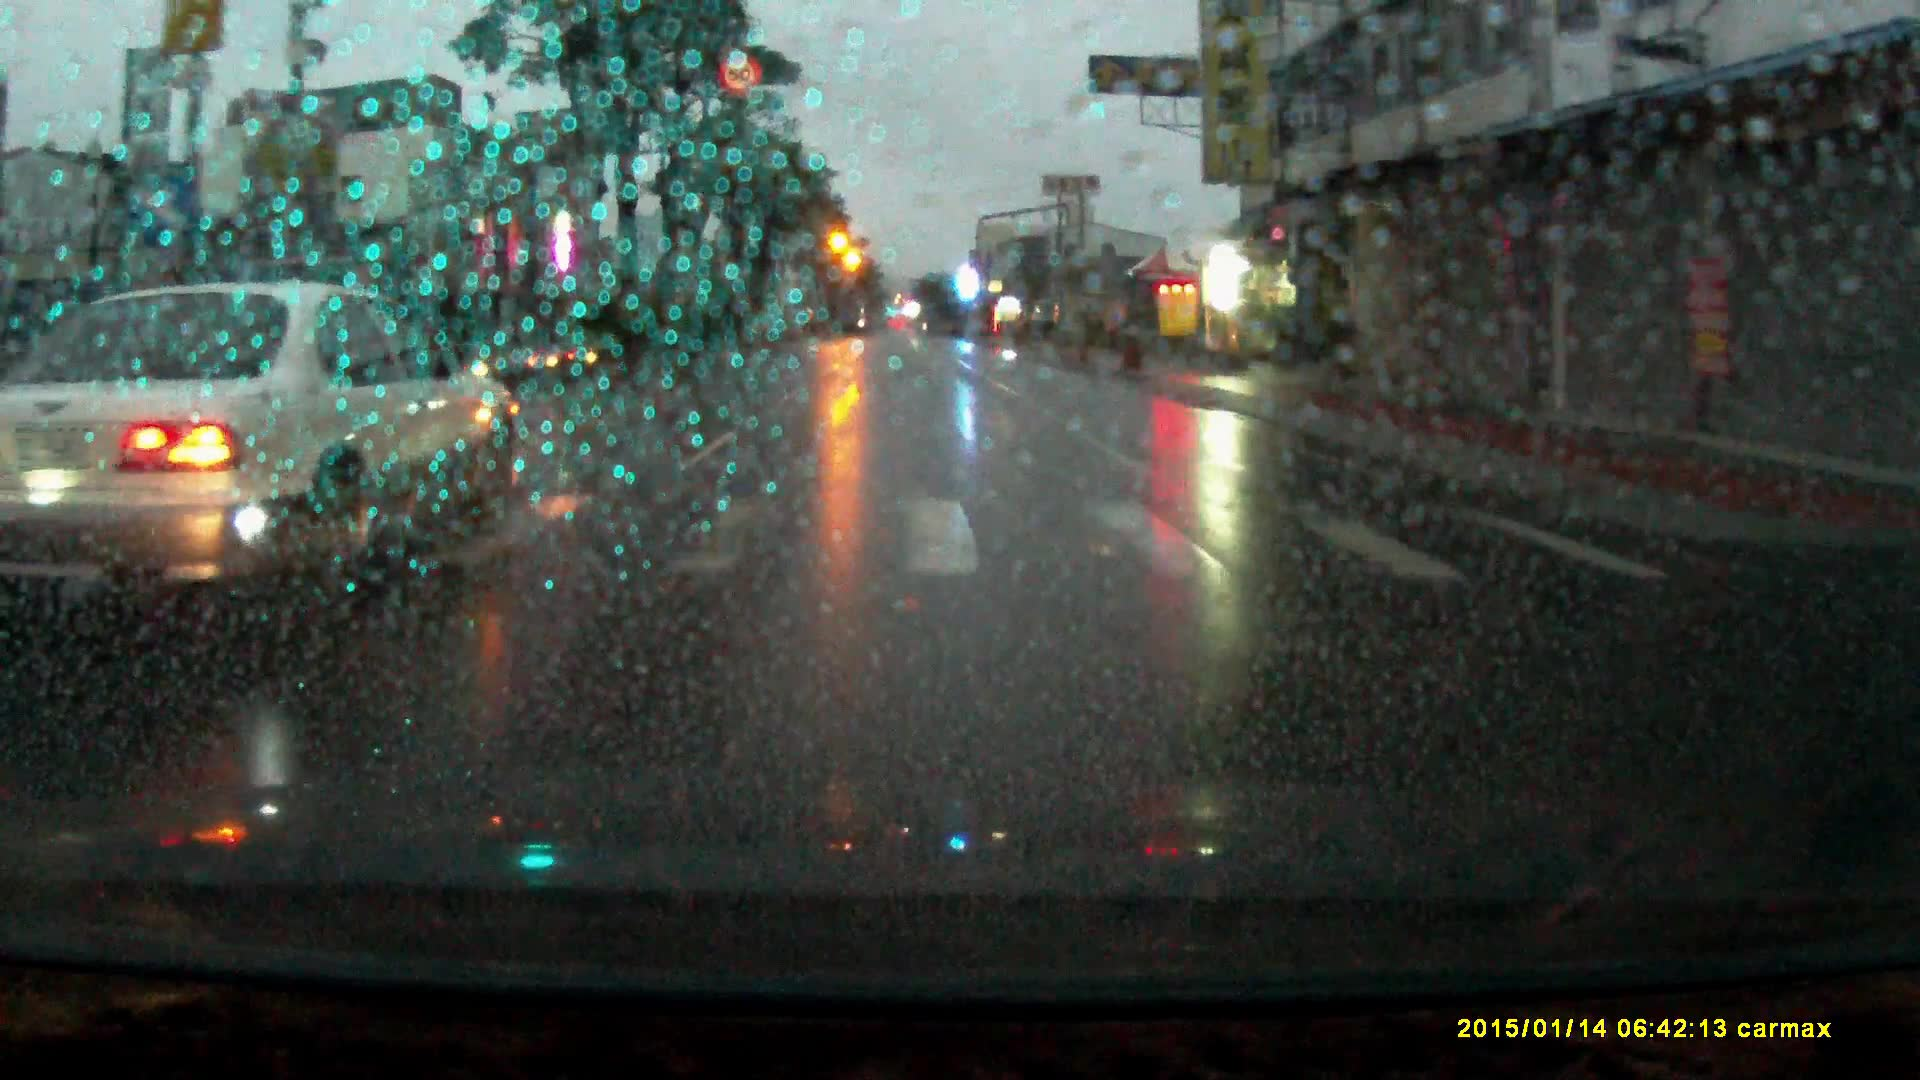vehicle: (1, 281, 529, 625)
